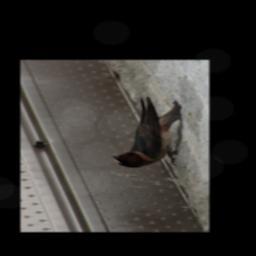Swallow: (112, 96, 184, 168)
